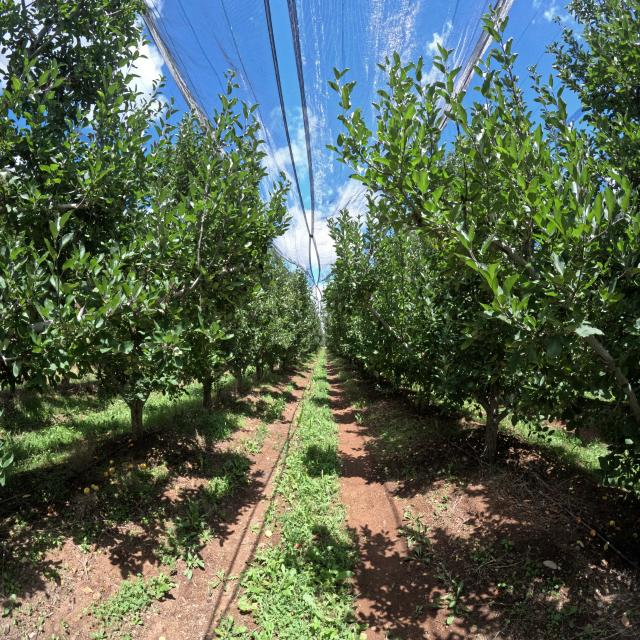-FireBlight-: (164, 282, 177, 307)
